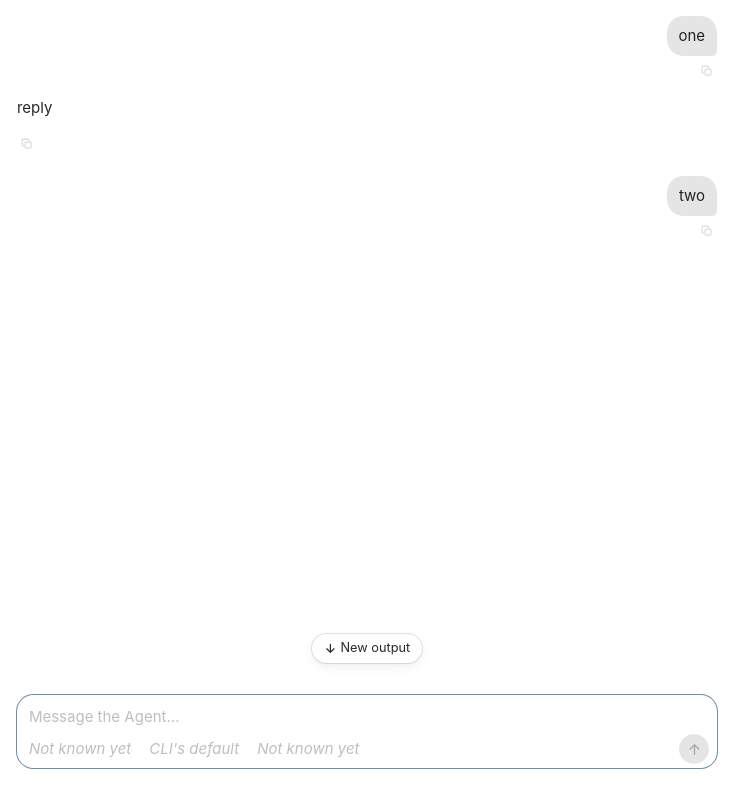
Test: following the end › pins the transcript to the end when the way down is pressed
(page scrolled)
Click the button "New output" at [367, 649], box [312,634,422,663]
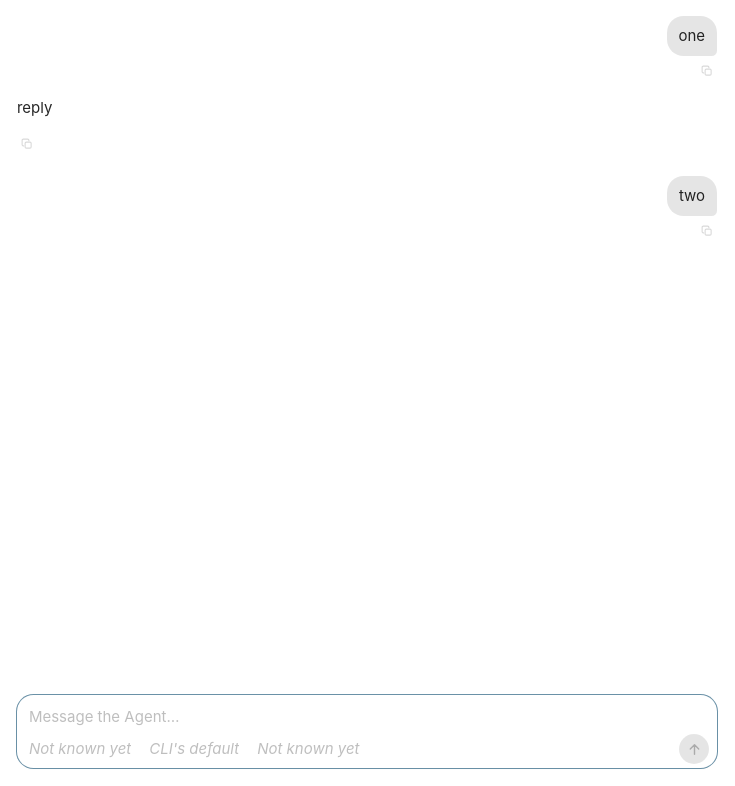
Result: the button "New output" is gone
